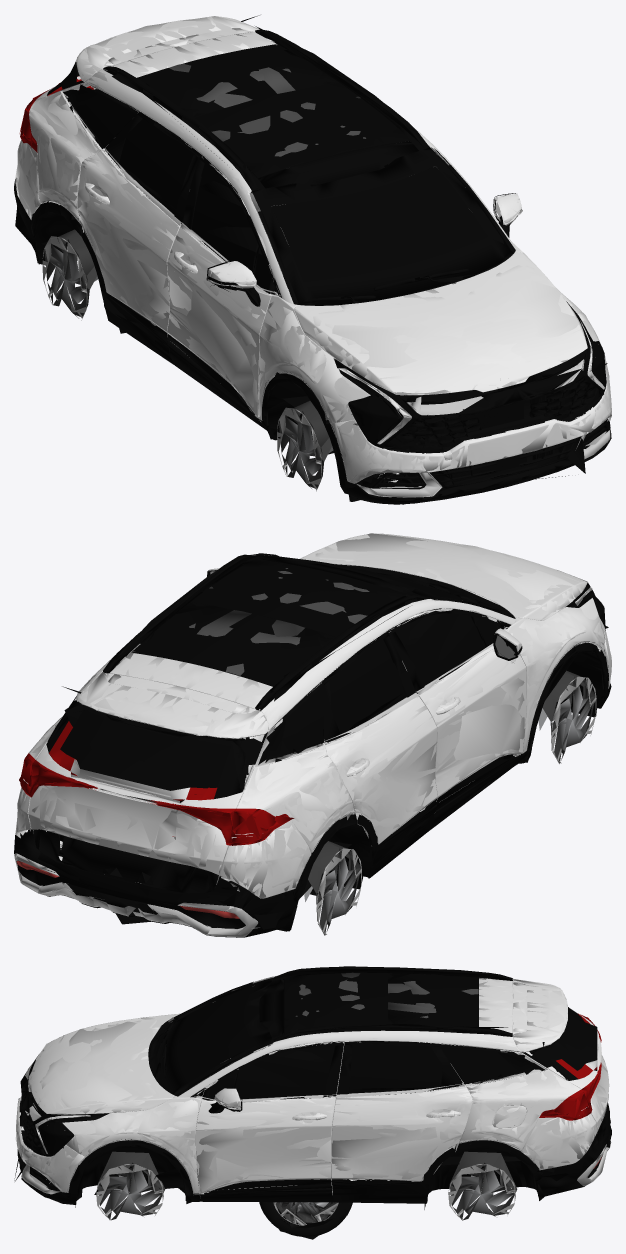
File: suv10.glb
3 views of the same model, one above another, from view 1: azimuth 30°, elevation 25°; view 2: azimuth 150°, elevation 25°; view 3: azimuth 270°, elevation 25° (orthographic). The views are drawn at different scales.
Parts seen in each view (by area): view 1: body0, body1, body2; view 2: body0, body1, body2; view 3: body0, body1, body2, wheel0, wheel1.
Boxes of the visible parts, x1=… form: body0: x1=14, y1=16, x2=611, y2=504; body1: x1=14, y1=16, x2=611, y2=504; body2: x1=15, y1=15, x2=611, y2=501; body0: x1=14, y1=533, x2=611, y2=937; body1: x1=14, y1=533, x2=611, y2=935; body2: x1=16, y1=533, x2=609, y2=935; body0: x1=16, y1=966, x2=611, y2=1209; body1: x1=16, y1=966, x2=611, y2=1205; body2: x1=14, y1=973, x2=608, y2=1220; wheel0: x1=259, y1=1202, x2=352, y2=1236; wheel1: x1=275, y1=1202, x2=348, y2=1239.
Size of the model in its own units: 2.11 by 2.04 by 4.67.
